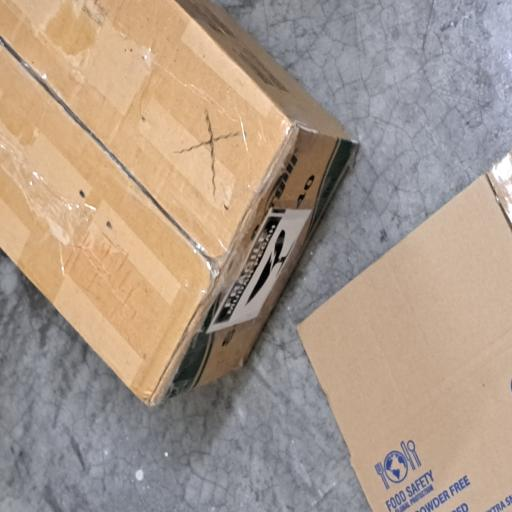cardboard: (77, 0, 384, 480), (0, 394, 272, 512)
